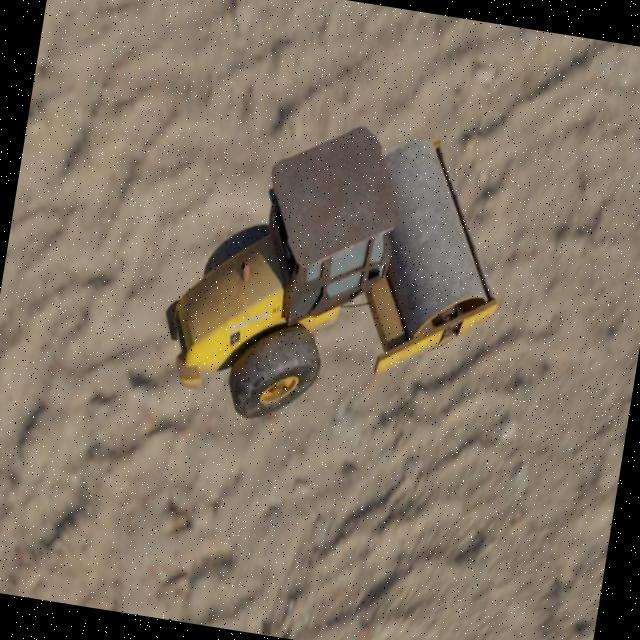Roller: (150, 100, 522, 454)
